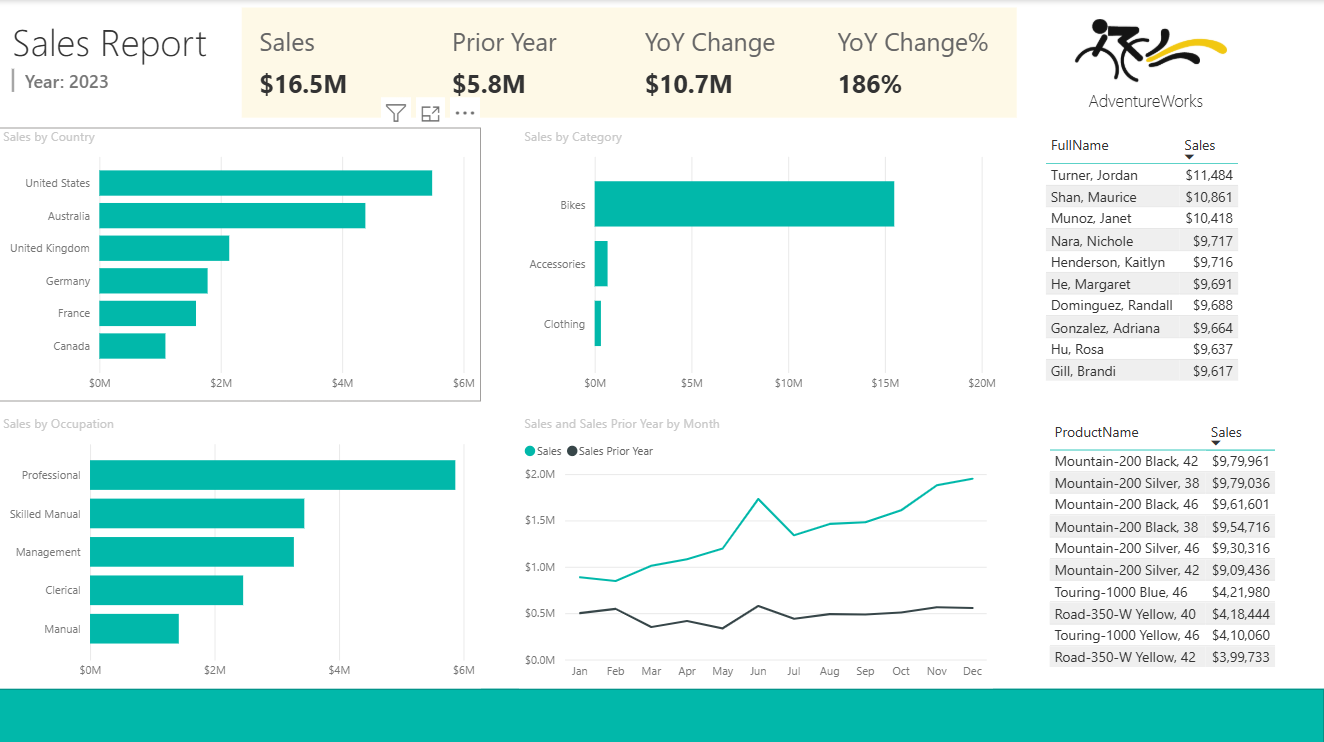

This screenshot's page, from the dashboard's own definition file:
{"tool":"powerbi","page":{"name":"Dashboard for Sales per customer and product","canvas":[1280,720],"ordinal":2},"visuals":[{"type":"textbox","box":[8.2,10,233.6,79.4],"z":0},{"type":"image","box":[1026.4,10,167,80.3],"z":1000},{"type":"textbox","box":[1021.8,80.3,171.5,33.8],"z":2000},{"type":"multiRowCard","fields":{"Values":["Sales.Year Selected"]},"box":[8.2,61.1,203.4,37.4],"z":3000},{"type":"cardVisual","fields":{"Data":["Sales.Sales","Sales.Sales Prior Year","Sales.Year over Year Change","Sales.YoY Change%"]},"box":[235.5,7.3,748.2,106.4],"z":4000},{"type":"clusteredBarChart","fields":{"Category":["Territories.Country"],"Y":["Sales.Sales"]},"box":[0,123.6,465.5,263.6],"z":5000},{"type":"clusteredBarChart","fields":{"Category":["Customer.Occupation"],"Y":["Sales.Sales"]},"box":[0,400.9,465.5,263.6],"z":6000},{"type":"clusteredBarChart","fields":{"Category":["Product.Category","Product.SubCategory"],"Y":["Sales.Sales"]},"box":[502.7,123.6,465.5,263.6],"z":7000},{"type":"lineChart","fields":{"Category":["Calendar.Month"],"Y":["Sales.Sales","Sales.Sales Prior Year"]},"box":[502.7,400.9,456.4,263.6],"z":8000},{"type":"tableEx","fields":{"Values":["Customer.FullName","Sales.Sales"]},"box":[1005.5,124.5,202.7,262.7],"z":9000},{"type":"tableEx","fields":{"Values":["Product.ProductName","Sales.Sales"]},"box":[1008.2,400.9,271.8,262.7],"z":10000},{"type":"shape","box":[0,664.5,1280,55.5],"z":10001}]}

Visuals, with their boxes in screenshot pixels (x1, y1, x2, y2), scaled from the page's 1280x720 canvas onto the 1324x742 screenshot:
textbox: [x1=8, y1=10, x2=250, y2=92]
image: [x1=1062, y1=10, x2=1234, y2=93]
textbox: [x1=1057, y1=83, x2=1234, y2=118]
multiRowCard - Sales.Year Selected: [x1=8, y1=63, x2=219, y2=102]
cardVisual - Sales.Sales x Sales.Sales Prior Year: [x1=244, y1=8, x2=1018, y2=117]
clusteredBarChart - Territories.Country x Sales.Sales: [x1=0, y1=127, x2=482, y2=399]
clusteredBarChart - Customer.Occupation x Sales.Sales: [x1=0, y1=413, x2=482, y2=685]
clusteredBarChart - Product.Category x Product.SubCategory: [x1=520, y1=127, x2=1001, y2=399]
lineChart - Calendar.Month x Sales.Sales: [x1=520, y1=413, x2=992, y2=685]
tableEx - Customer.FullName x Sales.Sales: [x1=1040, y1=128, x2=1250, y2=399]
tableEx - Product.ProductName x Sales.Sales: [x1=1043, y1=413, x2=1323, y2=684]
shape: [x1=0, y1=685, x2=1323, y2=741]
